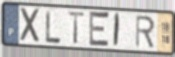E: (88, 9, 110, 50)
I: (112, 12, 122, 49)
L: (44, 8, 62, 44)
R: (135, 15, 156, 49)
T: (67, 10, 87, 45)
X: (19, 6, 42, 45)
